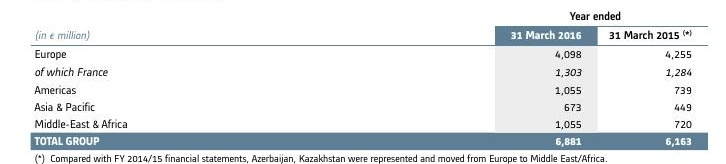table: (0, 0, 726, 164)
